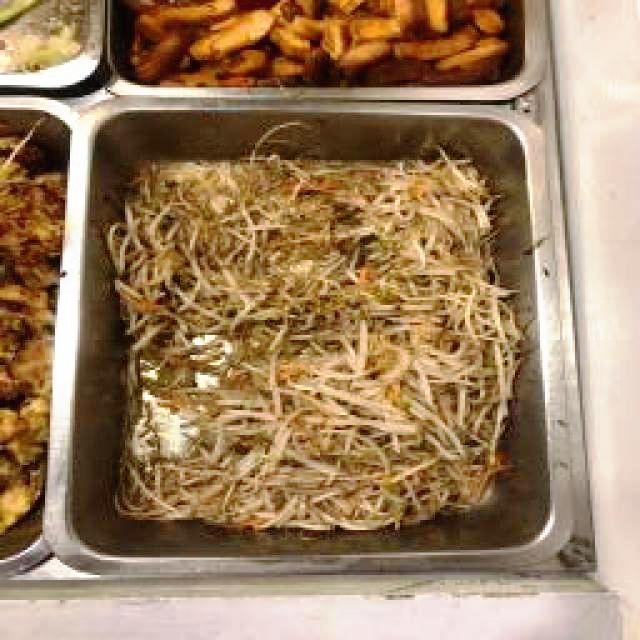mung_bean_sprouts: (129, 162, 495, 331), (237, 333, 511, 524), (129, 459, 276, 523)
